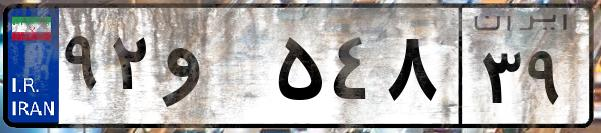2: (110, 28, 158, 98)
3: (475, 38, 525, 113)
4: (330, 28, 385, 110)
5: (270, 28, 330, 110)
8: (385, 28, 445, 110)
9: (57, 26, 110, 100), (525, 38, 570, 115)
و: (158, 20, 270, 120)
